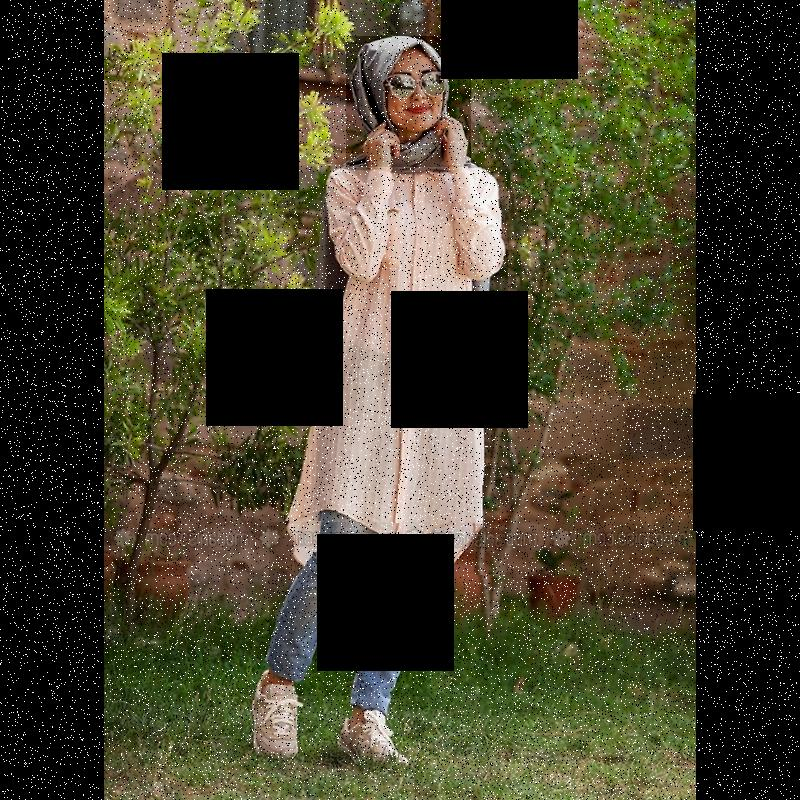Hijab: (346, 37, 470, 167)
Jeans: (269, 522, 431, 696)
Kurta: (284, 166, 508, 574)
